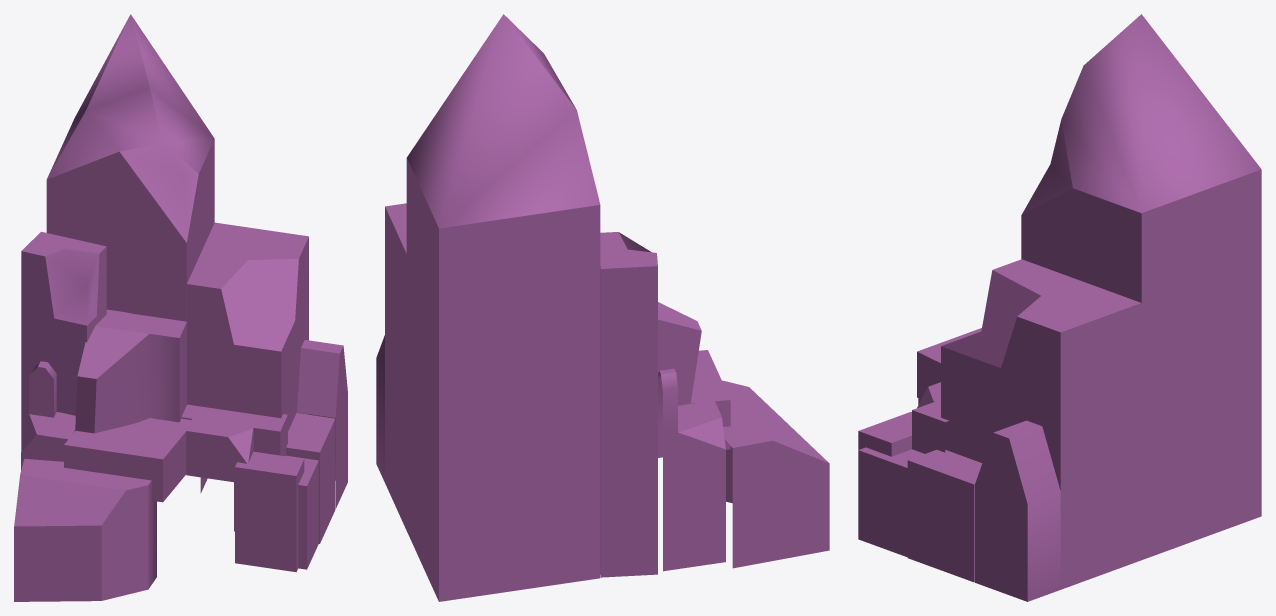
The model's file is iri2.fbx.
The picture shows the model from 3 angles, left to right: view 1: azimuth 30°, elevation 25°; view 2: azimuth 150°, elevation 25°; view 3: azimuth 270°, elevation 25°; orthographic projection. The views are drawn at different scales.
Parts seen in each view (by area): view 1: polySurface118; view 2: polySurface118; view 3: polySurface118.
Part boxes in pixels (x1,y1,x2,y2): polySurface118: (14,14,347,601); polySurface118: (376,14,829,601); polySurface118: (858,14,1261,601).
Size of the model in its own units: 374 by 470 by 336.
